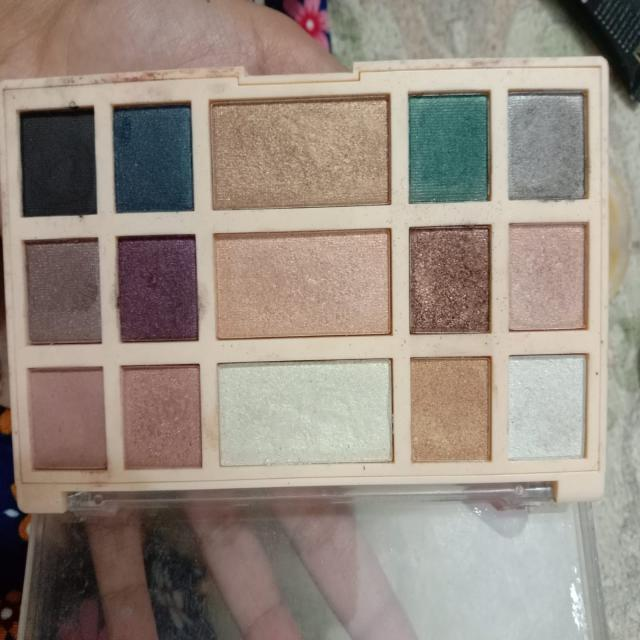eye shade: (8, 76, 600, 223), (17, 211, 596, 351), (22, 346, 596, 479)
